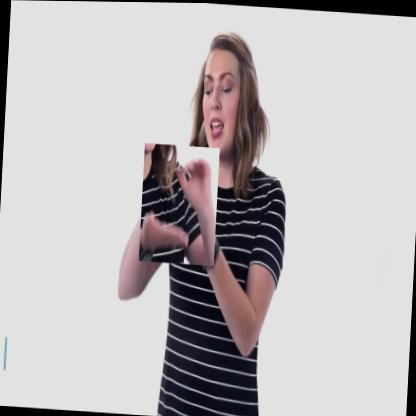ExcuseMe: (139, 143, 220, 265)
